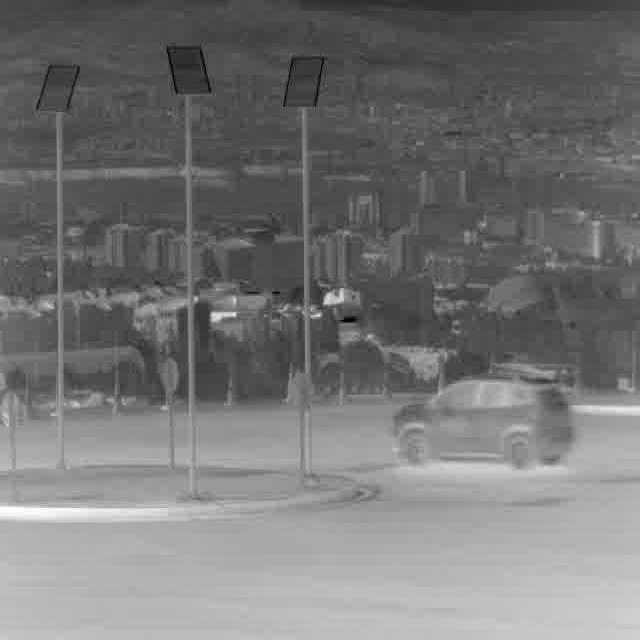Car: (392, 374, 569, 473)
